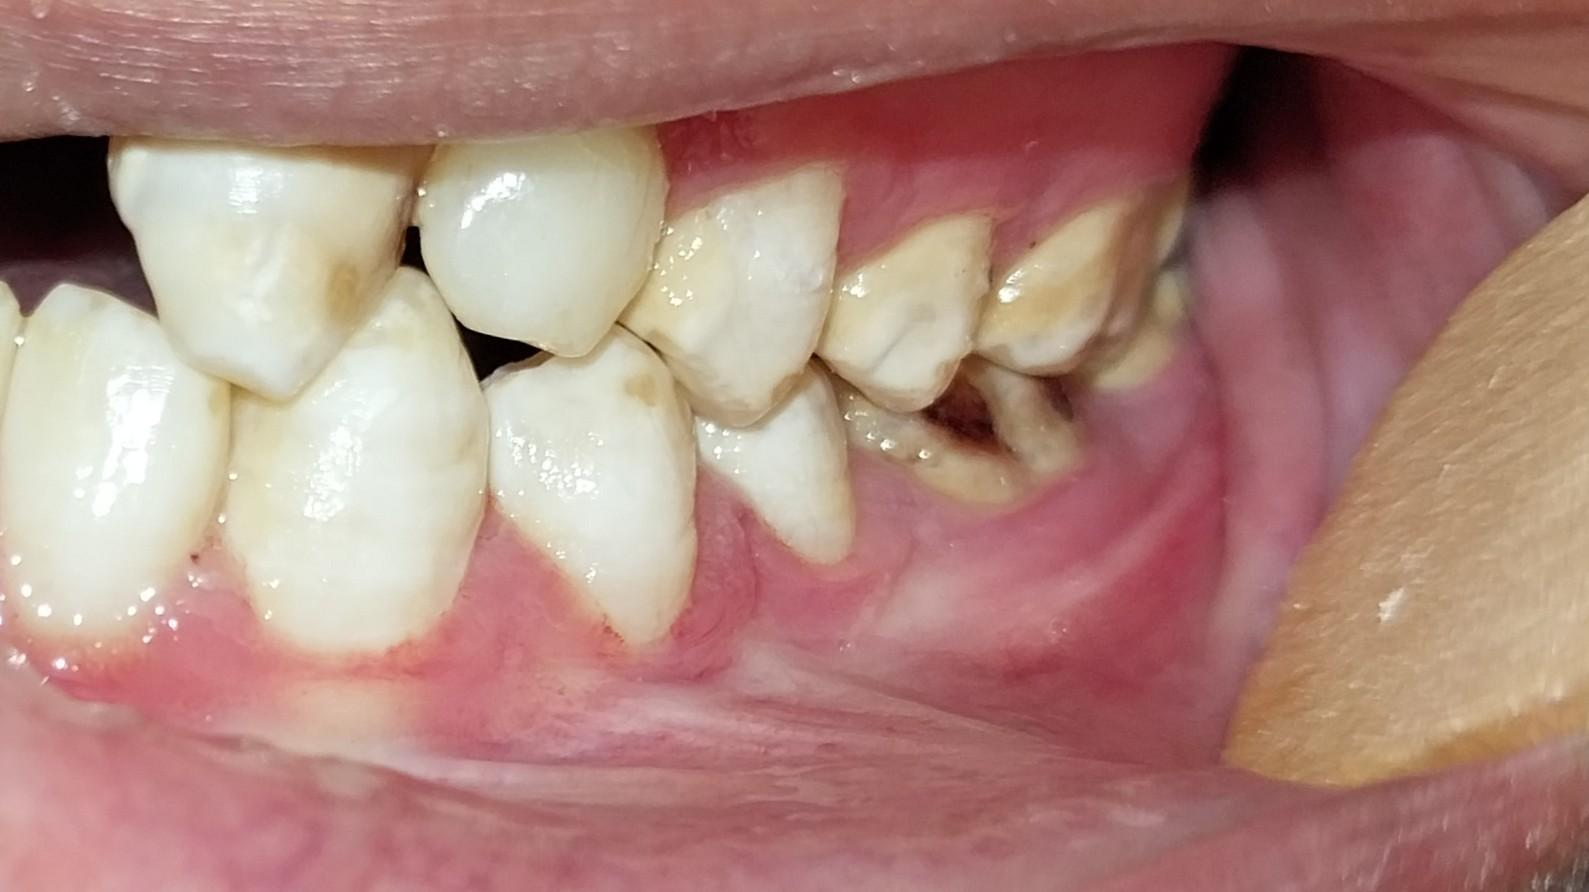D: (827, 346, 1099, 520)
